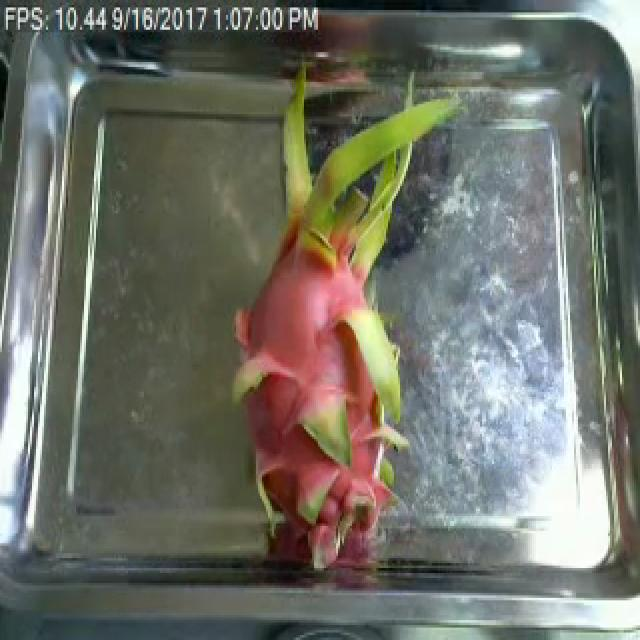fruit: (210, 164, 458, 580)
